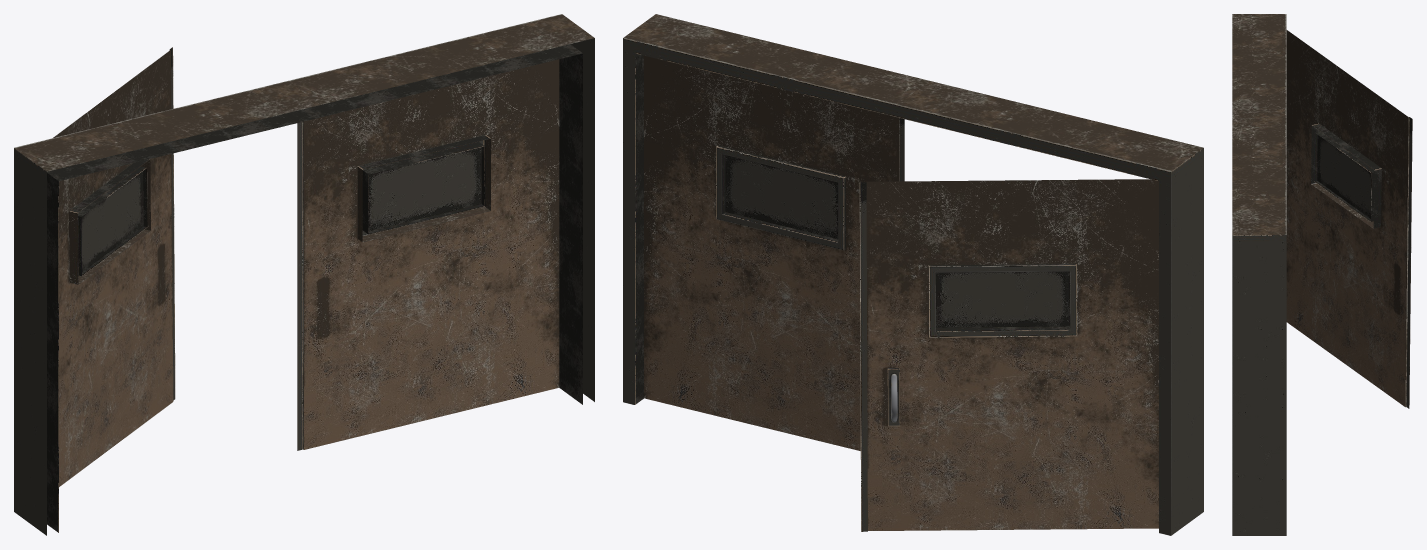
Rendered from F2-2_door01.fbx.
3 views of the same model, side by side, from view 1: azimuth 30°, elevation 25°; view 2: azimuth 150°, elevation 25°; view 3: azimuth 270°, elevation 25° (orthographic). The views are drawn at different scales.
Visible parts, largest first — view 1: F2_2_door01, F2_2_door01.002, F2_2_door01.001; view 2: F2_2_door01.001, F2_2_door01, F2_2_door01.002; view 3: F2_2_door01.001, F2_2_door01.002.
Part boxes in pixels (box(x1,y1,x2,y2)): F2_2_door01: box(297, 44, 571, 450); F2_2_door01.002: box(14, 14, 594, 535); F2_2_door01.001: box(53, 47, 175, 486); F2_2_door01.001: box(859, 179, 1158, 531); F2_2_door01: box(644, 55, 904, 450); F2_2_door01.002: box(623, 14, 1203, 535); F2_2_door01.001: box(1286, 30, 1412, 408); F2_2_door01.002: box(1232, 14, 1286, 535).
Size of the model in its own units: 461 by 292 by 159.
